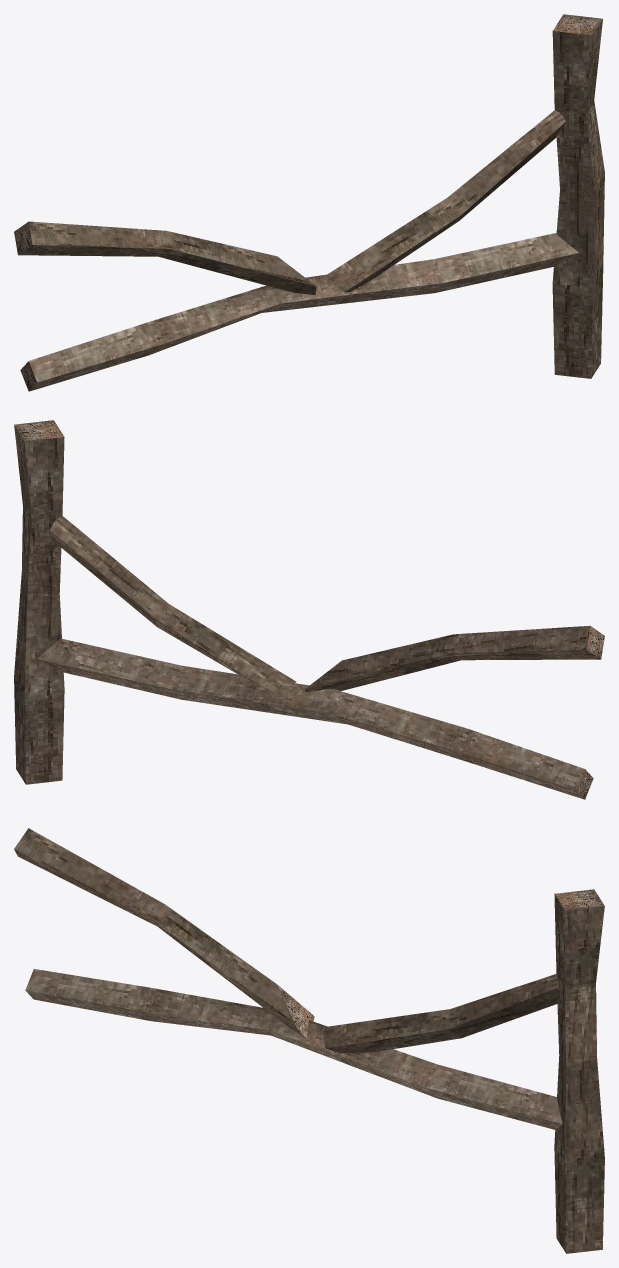
File: wooden_fence_broken_alt.glb
3 views of the same model, one above another, from view 1: azimuth 30°, elevation 25°; view 2: azimuth 150°, elevation 25°; view 3: azimuth 330°, elevation 25° (orthographic).
Visible parts, largest first — view 1: wooden_fence_broken_alt; view 2: wooden_fence_broken_alt; view 3: wooden_fence_broken_alt.
Part boxes in pixels (box(x1,y1,x2,y2)): wooden_fence_broken_alt: box(14, 14, 604, 391); wooden_fence_broken_alt: box(14, 420, 604, 799); wooden_fence_broken_alt: box(14, 828, 604, 1253).
Bounding box in the file's own units: 2.67 × 1.5 × 0.2363.
1 material, 1 textured.
